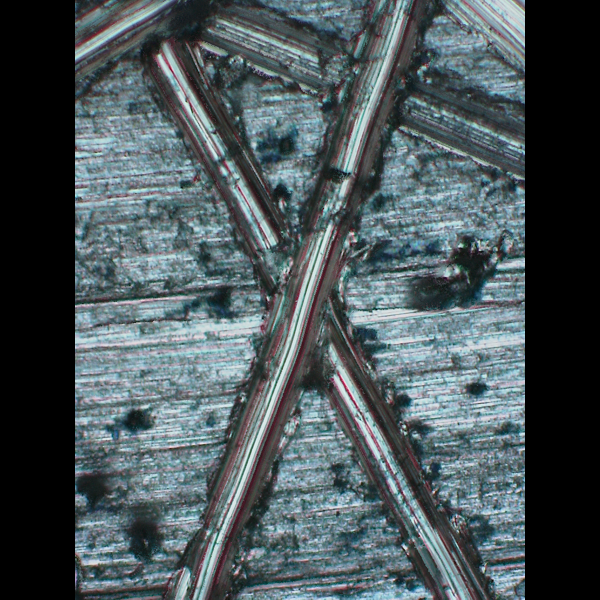d: (152, 0, 514, 598)
